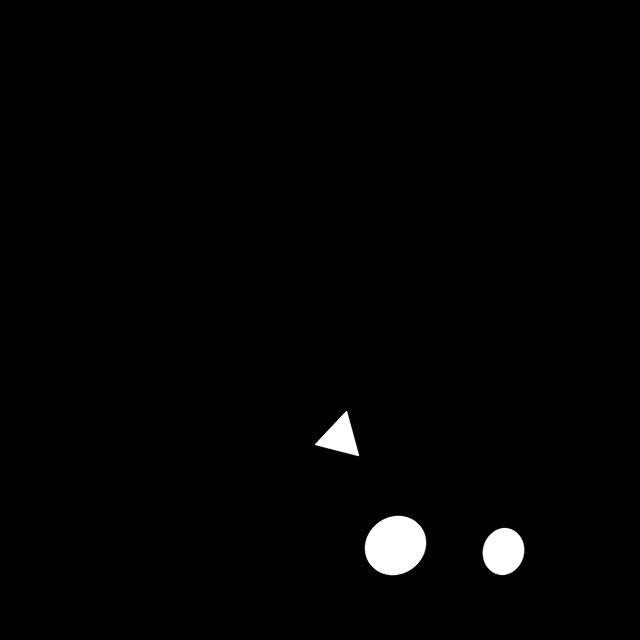Circle: (358, 507, 433, 586), (476, 522, 530, 584)
Triangle: (309, 404, 364, 468)
